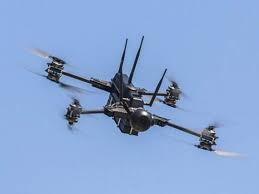drone: (44, 35, 220, 152)
